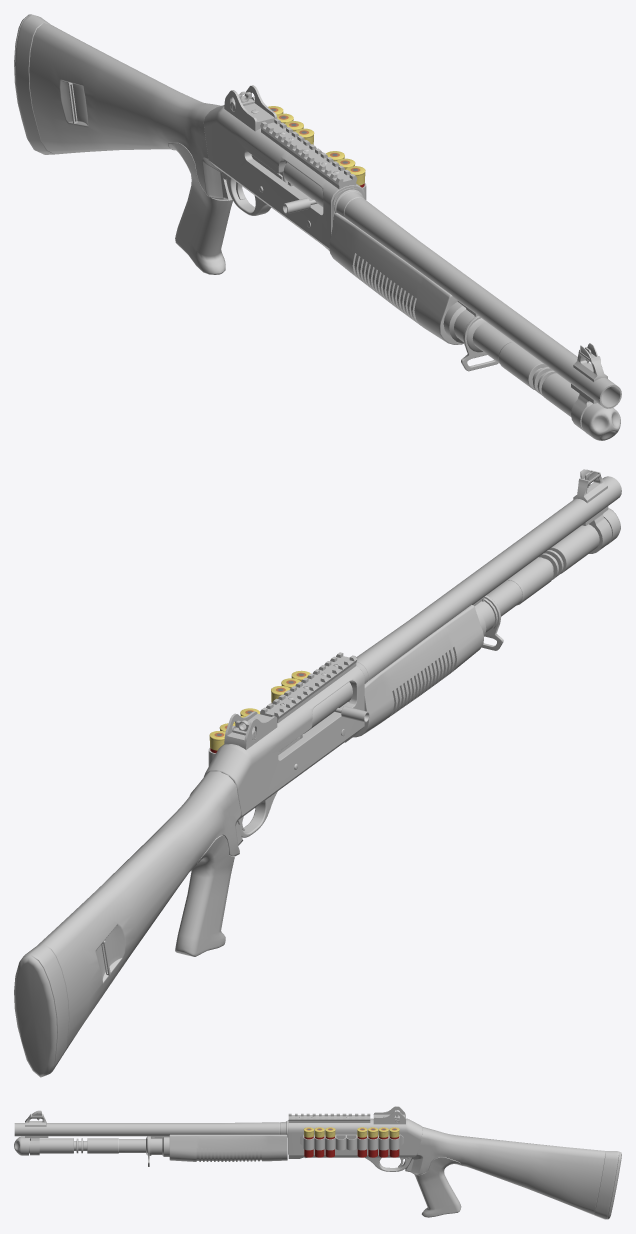
Rendered from Shotgun 2.fbx.
The picture shows the model from 3 angles, top to bottom: view 1: azimuth 30°, elevation 25°; view 2: azimuth 150°, elevation 25°; view 3: azimuth 270°, elevation 25°; orthographic projection. The views are drawn at different scales.
Visible parts, largest first — view 1: Rear_StockXY1510, Long_BarrelXY1510, BodyXY1510, Front_StockXY1510, Short_BarrelXY1510, Site_PasserXY1510, Rear_SightXY1510, Barrel_CapXY1510, BoltXY1510, Front_SiteXY1510, Trigger_CoverXY1510; view 2: Rear_StockXY1510, BodyXY1510, Long_BarrelXY1510, Front_StockXY1510, Short_BarrelXY1510, Site_PasserXY1510, Rear_SightXY1510, BoltXY1510; view 3: Rear_StockXY1510, Long_BarrelXY1510, Front_StockXY1510, BodyXY1510, Short_BarrelXY1510, Bullet_Holder_beltXY1510, Site_PasserXY1510, Rear_SightXY1510, Trigger_CoverXY1510, Front_SiteXY1510, Barrel_CapXY1510, BulletXY1510 (+6 smaller).
Part boxes in pixels (box(x1,y1,x2,y2)): Rear_StockXY1510: box(14, 14, 232, 274); Long_BarrelXY1510: box(334, 189, 621, 408); BodyXY1510: box(203, 105, 364, 250); Front_StockXY1510: box(329, 213, 463, 344); Short_BarrelXY1510: box(443, 302, 596, 431); Site_PasserXY1510: box(260, 118, 357, 189); Rear_SightXY1510: box(224, 85, 277, 131); Barrel_CapXY1510: box(581, 403, 620, 440); BoltXY1510: box(282, 162, 323, 214); Front_SiteXY1510: box(573, 343, 607, 381); Trigger_CoverXY1510: box(221, 171, 271, 215); Rear_StockXY1510: box(14, 771, 243, 1077); BodyXY1510: box(204, 666, 364, 819); Long_BarrelXY1510: box(356, 476, 621, 683); Front_StockXY1510: box(353, 605, 483, 737); Short_BarrelXY1510: box(474, 506, 611, 636); Site_PasserXY1510: box(260, 652, 357, 722); Rear_SightXY1510: box(224, 711, 277, 749); BoltXY1510: box(303, 682, 369, 733); Rear_StockXY1510: box(405, 1127, 621, 1219); Long_BarrelXY1510: box(14, 1120, 287, 1137); Front_StockXY1510: box(169, 1134, 287, 1161); BodyXY1510: box(288, 1118, 422, 1158); Short_BarrelXY1510: box(25, 1136, 169, 1156); Bullet_Holder_beltXY1510: box(300, 1134, 403, 1150); Site_PasserXY1510: box(288, 1113, 370, 1122); Rear_SightXY1510: box(373, 1106, 405, 1124); Trigger_CoverXY1510: box(365, 1157, 411, 1171); Front_SiteXY1510: box(25, 1110, 46, 1126); Barrel_CapXY1510: box(14, 1136, 28, 1155); BulletXY1510: box(389, 1127, 399, 1157).
Size of the model in its own units: 5.82 by 15.28 by 76.09.
